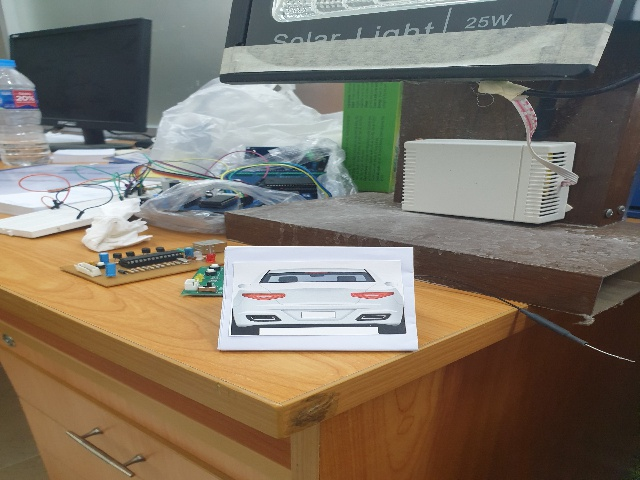Car: (231, 268, 408, 344)
